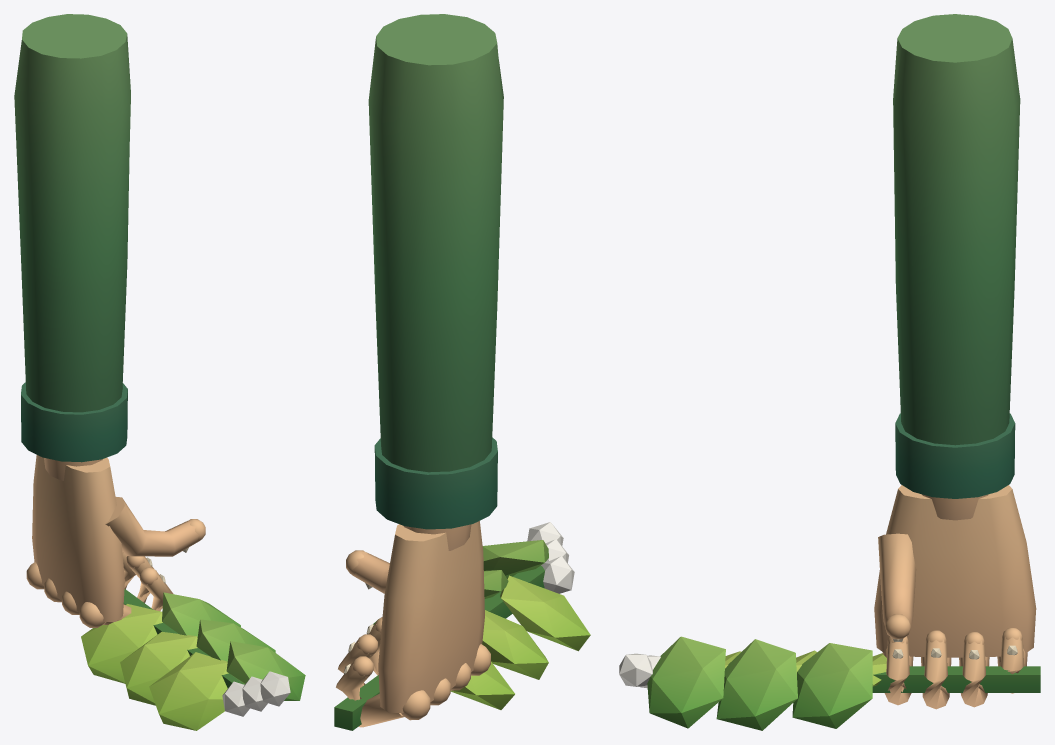
The model's file is merchant_selma_fore_r.glb.
3 renders of one model, left to right at view 1: azimuth 30°, elevation 25°; view 2: azimuth 150°, elevation 25°; view 3: azimuth 270°, elevation 25°, orthographic. The views are drawn at different scales.
Visible parts, largest first — view 1: merchant_selma_fore_r; view 2: merchant_selma_fore_r; view 3: merchant_selma_fore_r.
Part boxes in pixels (<box>): merchant_selma_fore_r: <box>14,14,305,730</box>; merchant_selma_fore_r: <box>334,14,590,730</box>; merchant_selma_fore_r: <box>619,14,1040,730</box>.
Bounding box in the file's own units: 0.3676 × 1.34 × 0.7812.
1 material, 1 textured.
